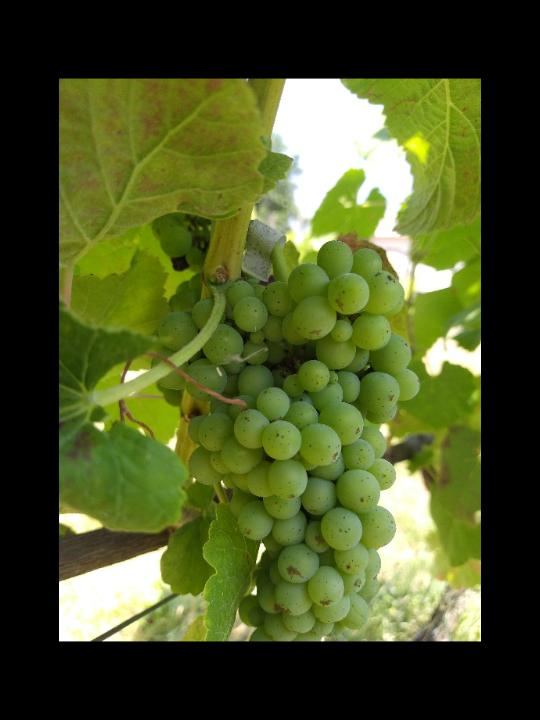grape: (150, 240, 421, 641)
